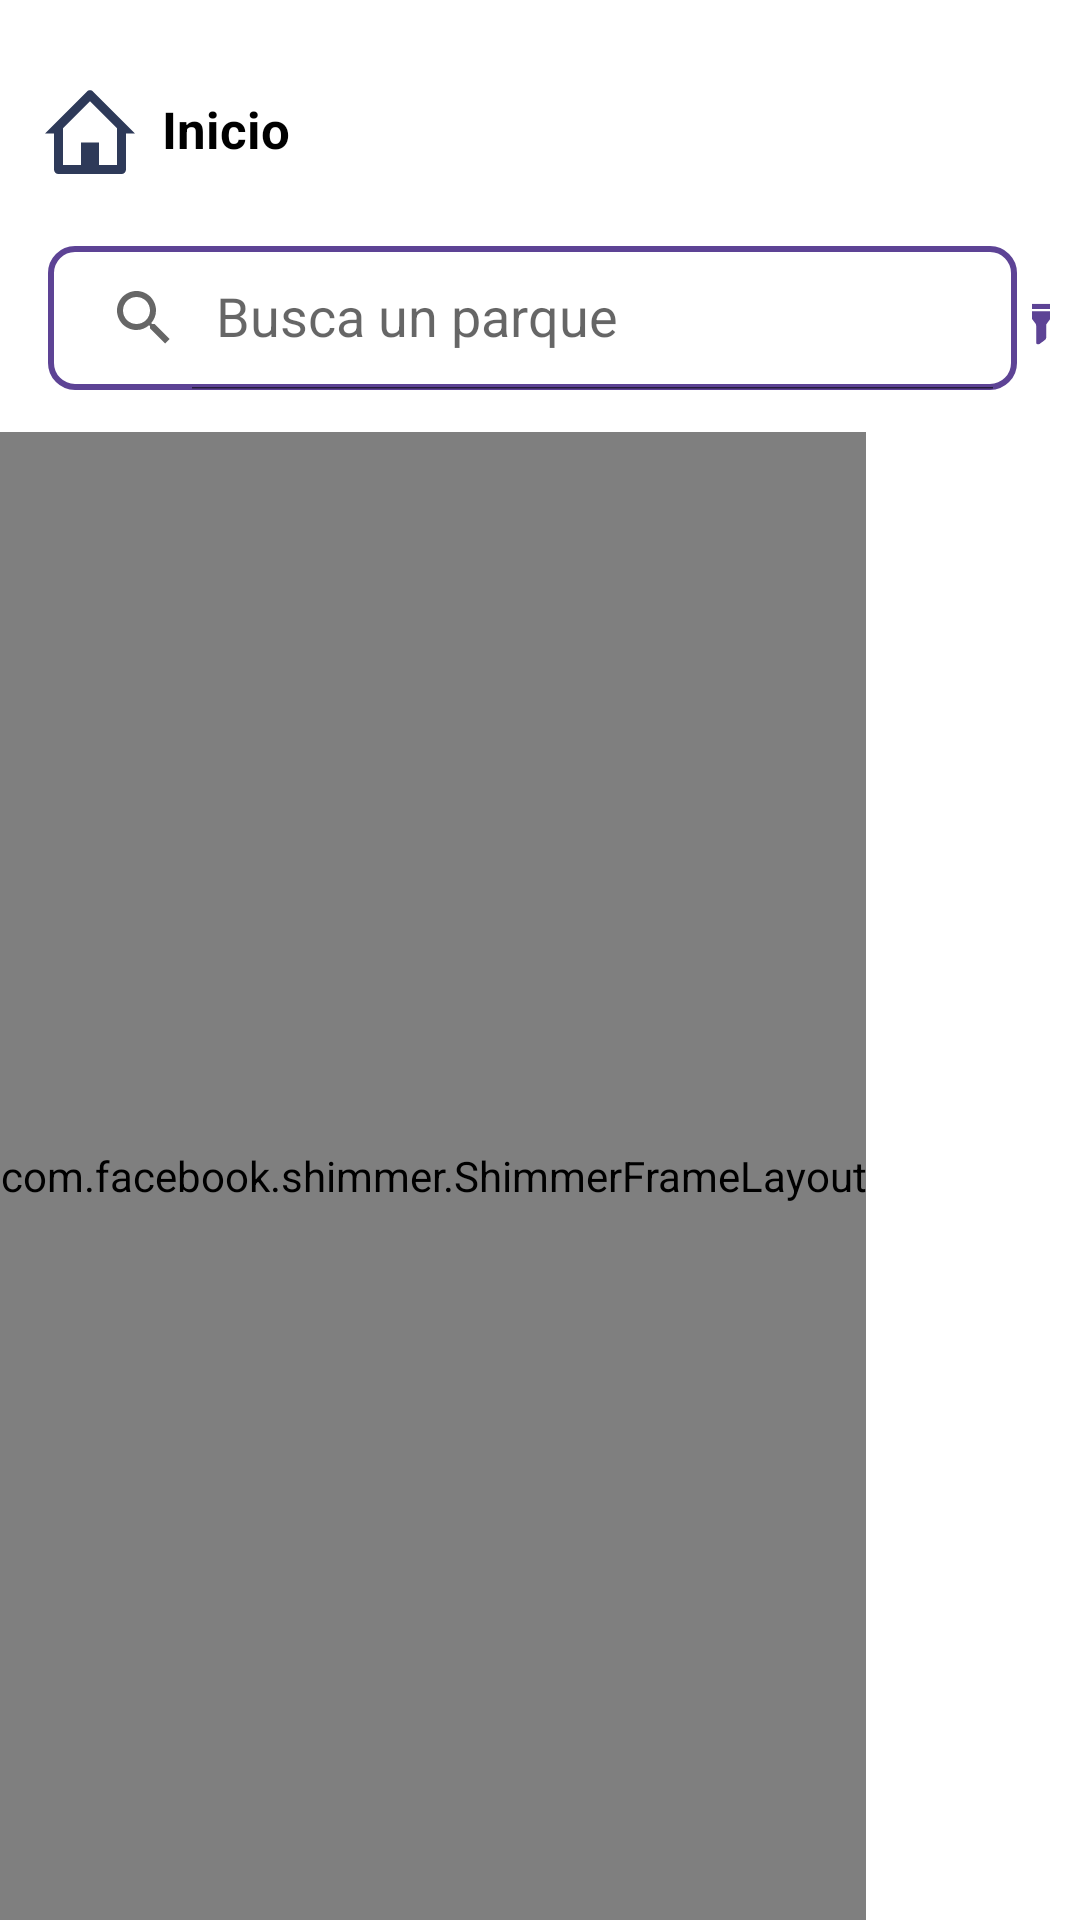

Where icons sit on this 1080*1920 app screen, as (x1, y1, x2, y2):
home: (45, 90, 135, 174)
